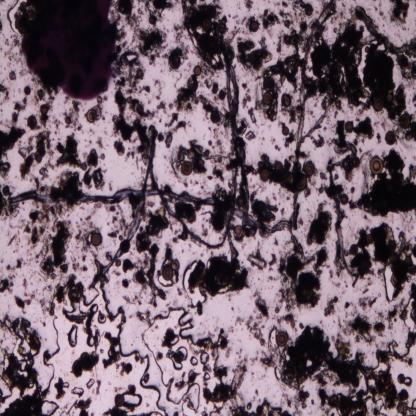Air bubble: (115, 325, 200, 415), (182, 262, 209, 309), (8, 0, 26, 39), (401, 294, 416, 334), (64, 302, 86, 326), (382, 266, 395, 302), (121, 390, 142, 407), (38, 401, 60, 415), (157, 276, 176, 292), (266, 326, 277, 350), (67, 325, 78, 348), (168, 355, 183, 371), (70, 385, 84, 397), (178, 346, 188, 360), (85, 377, 95, 390), (126, 52, 137, 63), (199, 352, 209, 364), (274, 366, 282, 380), (189, 356, 198, 368), (170, 336, 180, 346), (404, 376, 413, 386), (90, 303, 98, 314), (87, 336, 95, 346), (203, 372, 211, 381), (64, 381, 70, 389)
Background material: (348, 218, 416, 288), (349, 148, 416, 213), (181, 0, 234, 68), (279, 323, 329, 386), (336, 21, 372, 108), (114, 91, 152, 165), (188, 255, 247, 300), (283, 244, 321, 307), (305, 37, 339, 107), (41, 220, 74, 280), (132, 245, 164, 304), (330, 341, 368, 390), (315, 388, 382, 415), (364, 43, 396, 96), (0, 310, 40, 352), (202, 329, 229, 387), (136, 207, 170, 253), (372, 364, 410, 405), (373, 330, 416, 363), (174, 76, 212, 113), (6, 349, 39, 391), (207, 185, 232, 234), (134, 29, 170, 63), (279, 33, 302, 86), (306, 203, 335, 244), (0, 390, 47, 414), (57, 134, 87, 171), (49, 170, 85, 200), (236, 40, 272, 69), (230, 400, 290, 416), (235, 314, 265, 346), (339, 316, 372, 344), (52, 275, 84, 302), (251, 191, 277, 223), (386, 83, 409, 119), (106, 204, 129, 240), (187, 139, 211, 173), (0, 128, 27, 158), (115, 0, 143, 28), (62, 97, 84, 131), (114, 57, 137, 89), (70, 352, 98, 378), (103, 329, 120, 370), (202, 384, 236, 404), (168, 141, 187, 174), (35, 130, 55, 161), (28, 203, 56, 224), (232, 356, 248, 392), (248, 246, 268, 274), (10, 96, 28, 127), (262, 65, 279, 95), (83, 167, 105, 190), (260, 7, 281, 31), (144, 0, 174, 16), (22, 224, 48, 242), (165, 112, 188, 132), (255, 289, 270, 319), (279, 2, 297, 27), (12, 291, 35, 309), (18, 155, 34, 180), (322, 295, 339, 318), (75, 229, 91, 253), (0, 198, 19, 218), (356, 295, 378, 312), (292, 389, 308, 412), (258, 349, 276, 369), (135, 307, 154, 325), (76, 214, 96, 231), (38, 160, 54, 180), (258, 150, 274, 169), (83, 314, 96, 337), (86, 147, 100, 168), (159, 327, 173, 348), (32, 177, 49, 194), (153, 94, 168, 112), (212, 164, 226, 183), (264, 107, 280, 123), (280, 312, 296, 328), (212, 83, 226, 101), (116, 258, 134, 272), (373, 320, 387, 338), (130, 193, 144, 211), (55, 376, 65, 401), (158, 133, 174, 148), (119, 360, 134, 376), (113, 139, 126, 155), (37, 113, 50, 128), (174, 23, 184, 42), (0, 161, 11, 178), (240, 120, 251, 137), (0, 278, 13, 292), (195, 300, 205, 318), (288, 108, 300, 123), (247, 106, 257, 124), (34, 88, 45, 104), (387, 307, 399, 321), (240, 94, 252, 108), (270, 253, 279, 271), (0, 83, 10, 99), (242, 2, 254, 14), (52, 119, 63, 130), (1, 185, 12, 196), (121, 276, 131, 288), (8, 69, 16, 84), (246, 129, 256, 141), (250, 20, 260, 32), (96, 137, 105, 150), (18, 146, 28, 157), (155, 350, 164, 362), (300, 21, 309, 32), (5, 264, 14, 274), (16, 257, 22, 271), (144, 372, 150, 384), (8, 273, 15, 282), (99, 152, 106, 160)
Cellulose filter fibre: (286, 2, 338, 239), (327, 137, 356, 276), (352, 5, 416, 59)
Cotton: (0, 47, 245, 284)
Diatom: (168, 50, 182, 74), (370, 156, 384, 177), (294, 171, 307, 193), (400, 113, 413, 128), (276, 331, 288, 347), (385, 129, 396, 145), (305, 160, 316, 176), (90, 232, 102, 246), (86, 108, 97, 123), (181, 160, 192, 175), (162, 266, 173, 281), (233, 225, 244, 240), (263, 90, 273, 106), (92, 105, 102, 121), (349, 242, 360, 256), (119, 239, 130, 253), (373, 97, 384, 110), (304, 3, 314, 17), (390, 274, 400, 288), (202, 18, 212, 32), (260, 168, 269, 183), (397, 401, 407, 414), (115, 394, 125, 407), (27, 115, 37, 128), (340, 191, 348, 206), (171, 260, 180, 273), (345, 120, 354, 133), (210, 110, 220, 121), (274, 161, 283, 173), (193, 64, 202, 76), (318, 135, 326, 148), (23, 83, 31, 96), (39, 104, 49, 114), (325, 352, 333, 364), (386, 92, 394, 104), (398, 372, 405, 385), (148, 16, 158, 25), (282, 127, 290, 136)
Pen: (19, 0, 115, 99)
